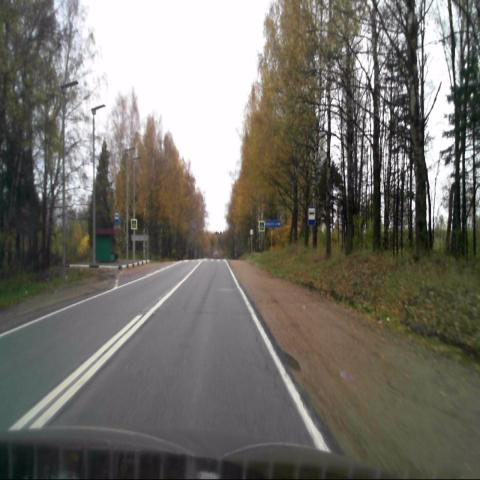5_16: (307, 206, 315, 225)
5_19_1: (131, 219, 137, 229)
